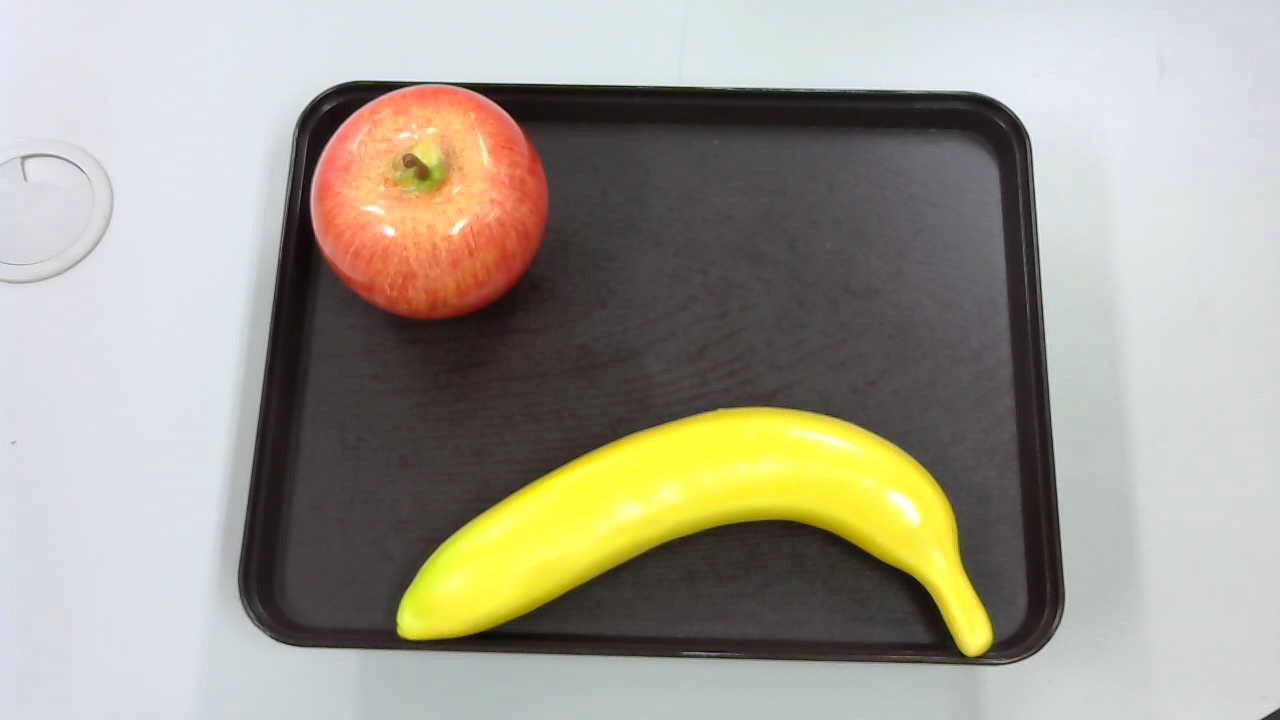banana: (387, 398, 1002, 670)
red apple: (305, 80, 554, 324)
